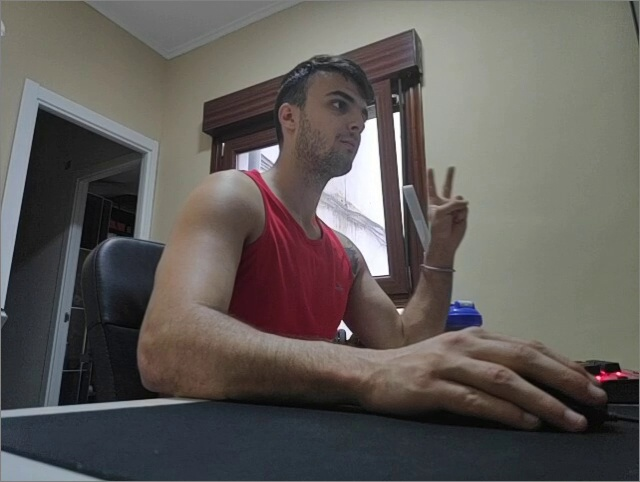Peace: (424, 166, 474, 242)
